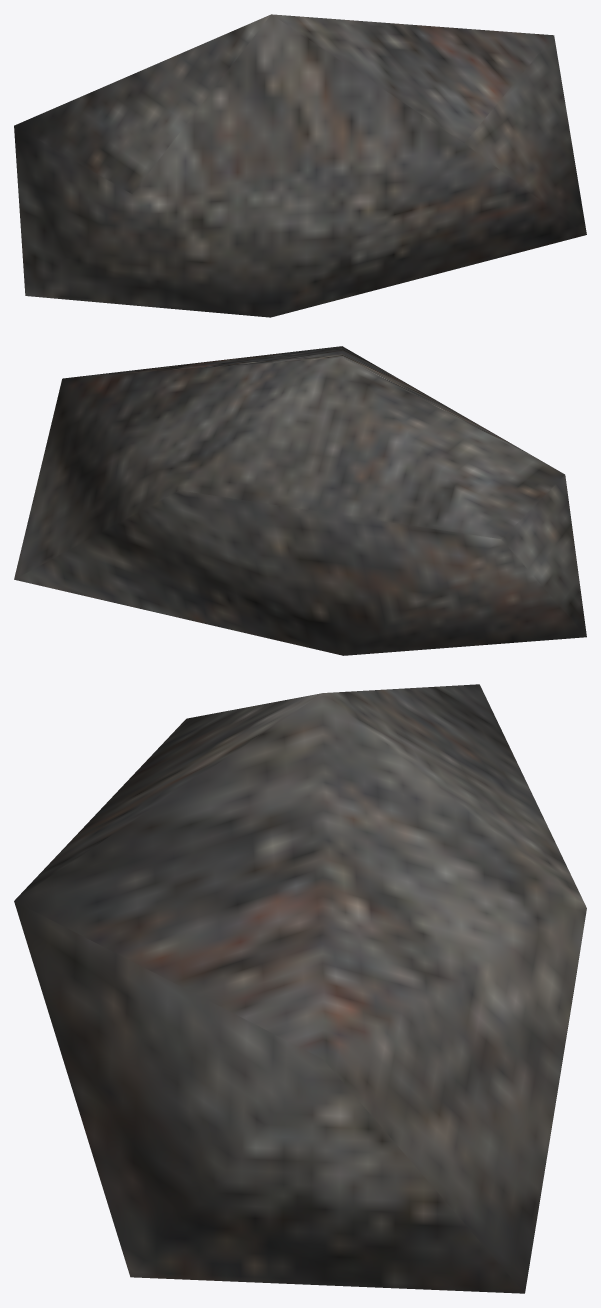
The model's file is SM_HarvestRock_Chip05.fbx.
3 views of the same model, one above another, from view 1: azimuth 30°, elevation 25°; view 2: azimuth 150°, elevation 25°; view 3: azimuth 270°, elevation 25° (orthographic). The views are drawn at different scales.
Parts seen in each view (by area): view 1: SM_HarvestRock_Chip05; view 2: SM_HarvestRock_Chip05; view 3: SM_HarvestRock_Chip05.
Part boxes in pixels (x1,y1,x2,y2): SM_HarvestRock_Chip05: [14, 14, 586, 317]; SM_HarvestRock_Chip05: [14, 346, 586, 655]; SM_HarvestRock_Chip05: [14, 684, 586, 1293].
Bounding box in the file's own units: 48.96 × 28.62 × 26.43.
Materials: 1 (1 with a texture image).
